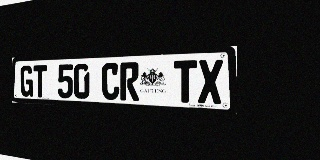0: (74, 64, 89, 99)
5: (58, 64, 73, 98)
C: (102, 63, 119, 100)
G: (20, 65, 33, 97)
R: (120, 62, 139, 101)
T: (174, 60, 197, 103), (33, 65, 47, 97)
X: (198, 59, 223, 104)
